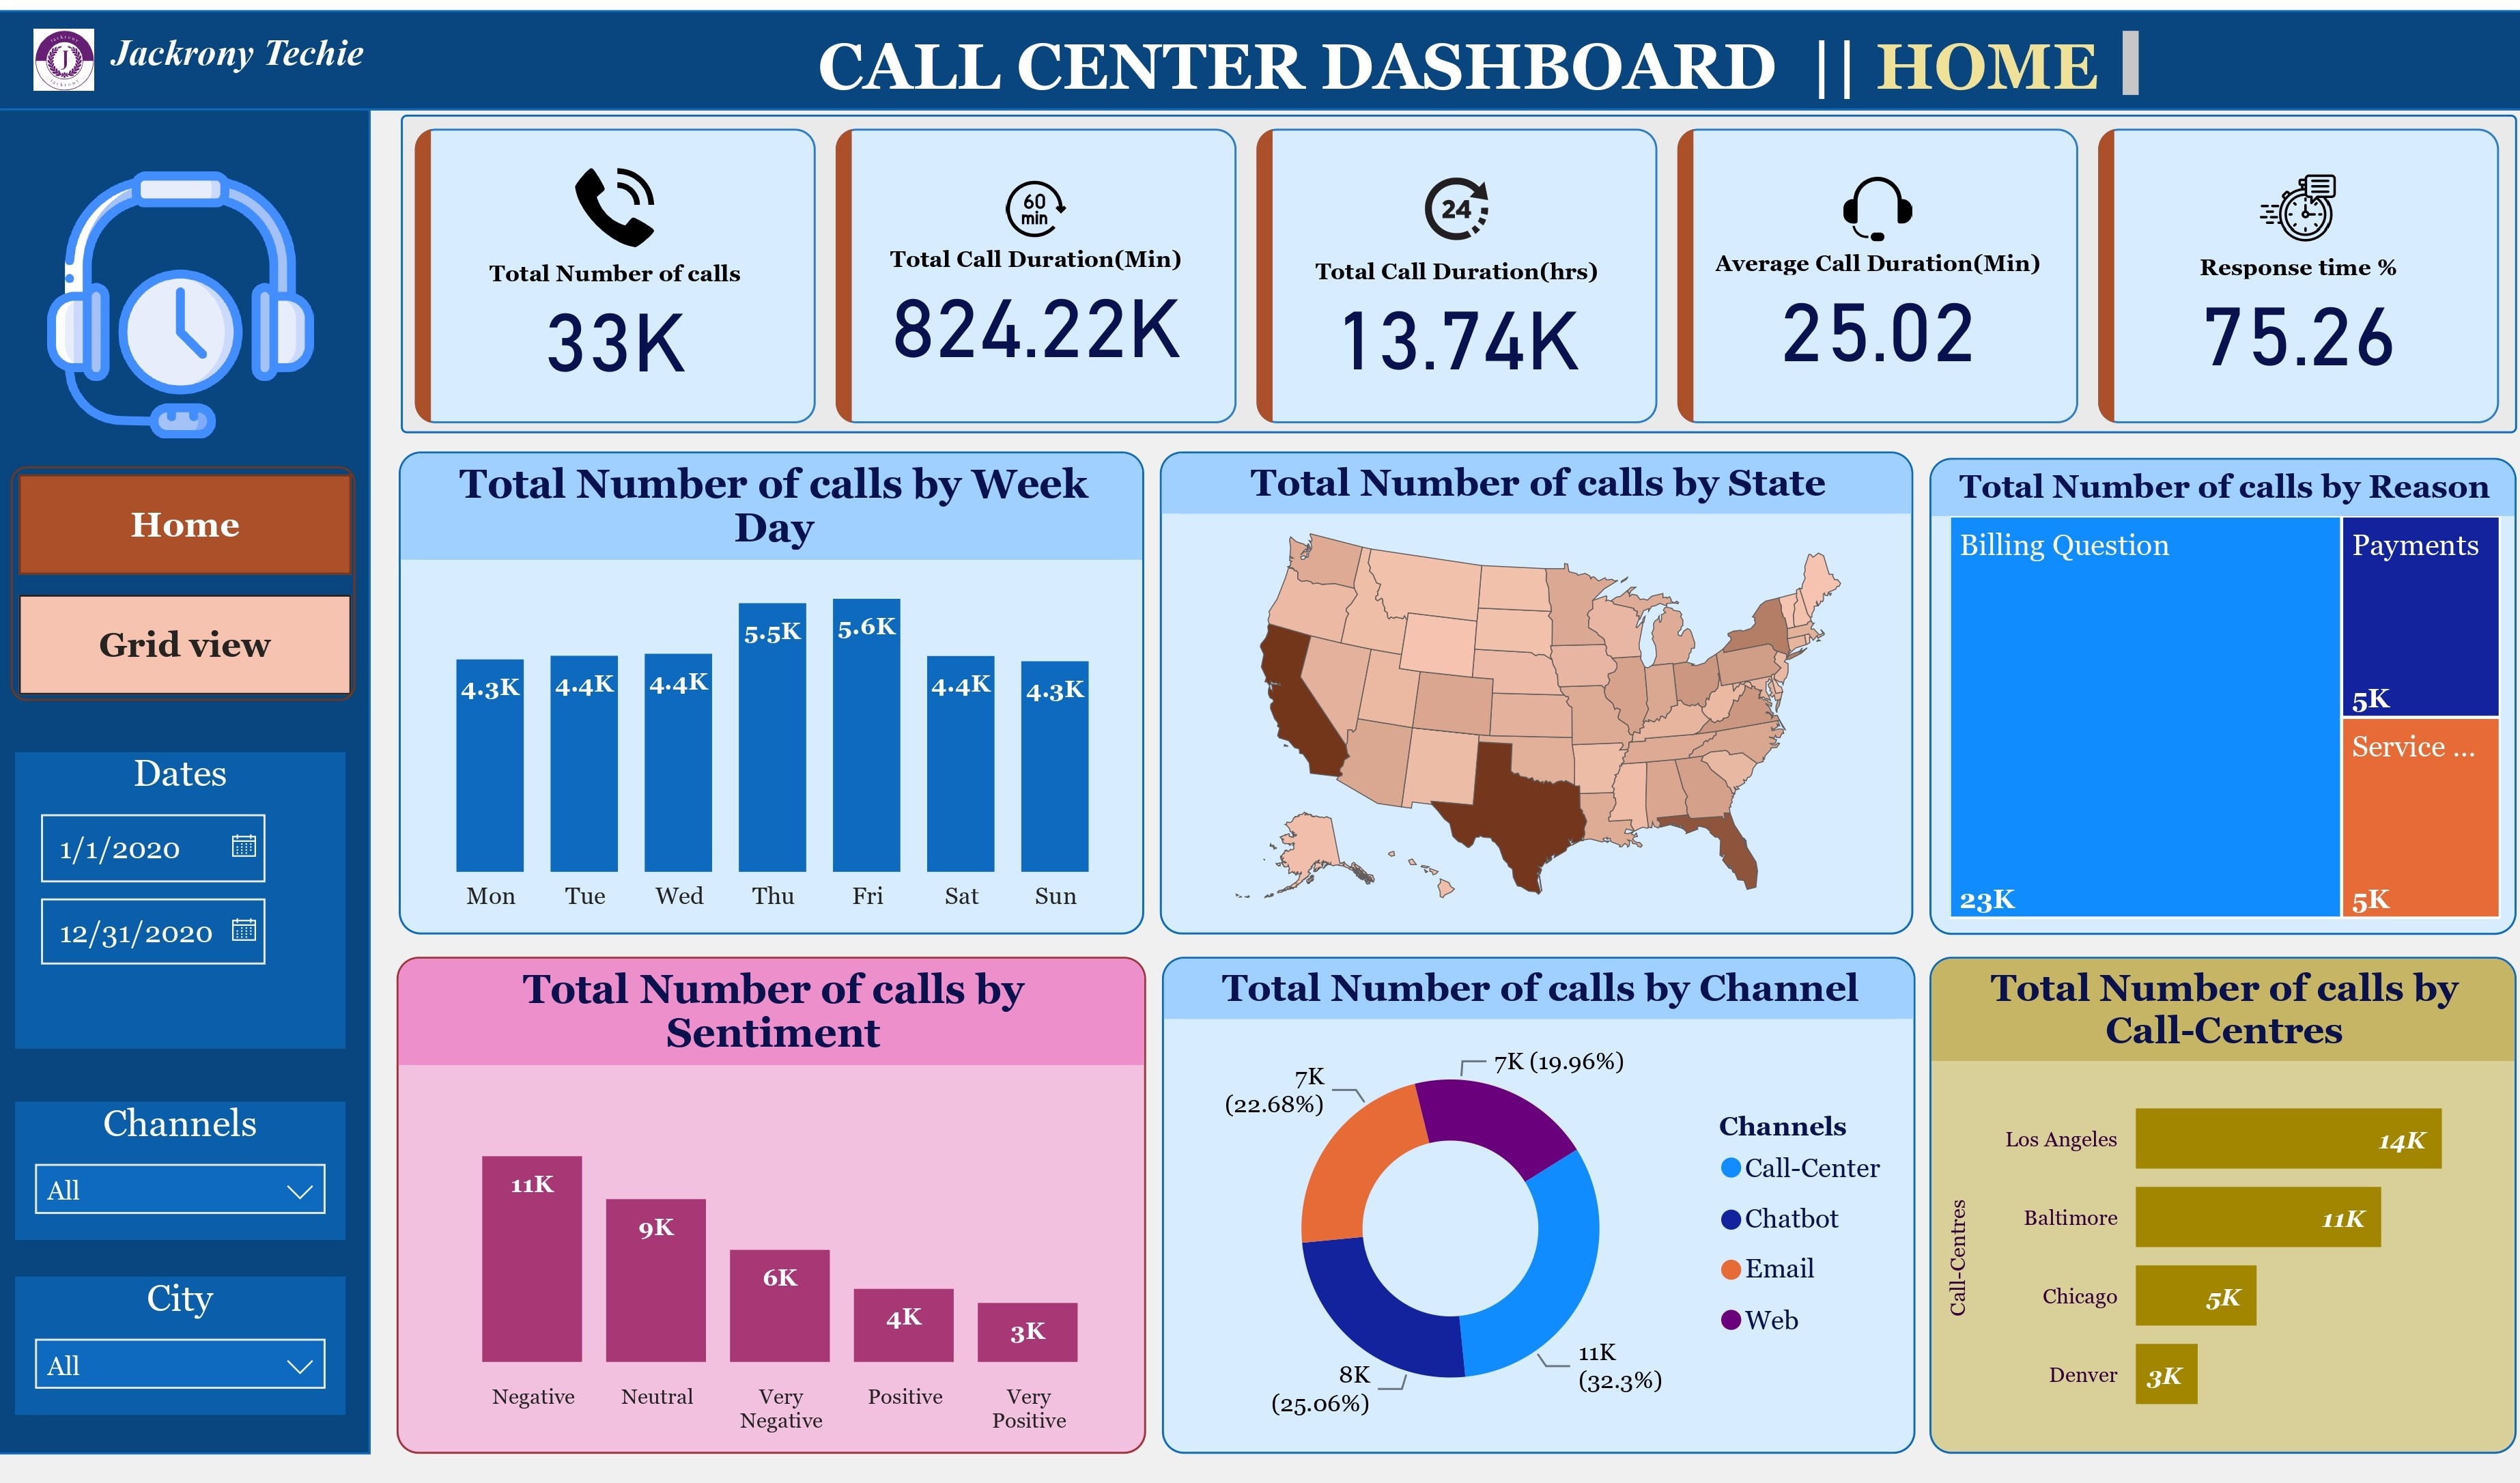

This screenshot's page, from the dashboard's own definition file:
{"tool":"powerbi","page":{"name":"Home","canvas":[1280,720],"ordinal":0},"visuals":[{"type":"columnChart","title":"Total Number of calls by Week Day","fields":{"Y":["Center_Call Data.Total Number of calls"],"Category":["Dates.WeekDayName"]},"box":[209,220,372.2,240.7],"z":0,"group":"g1"},{"type":"shape","box":[7.4,44.4,187,675.9],"z":0},{"type":"shape","box":[7.4,0,1268.5,50],"z":1000},{"type":"shapeMap","fields":{"Category":["Center_Call Data.State"],"Value":["Center_Call Data.Total Number of calls"]},"box":[588.6,219.9,375.9,240.7],"z":1000,"group":"g1"},{"type":"treemap","title":"Total Number of calls by Reason","fields":{"Group":["Center_Call Data.Reason"],"Values":["Center_Call Data.Total Number of calls"]},"box":[972.8,223.2,292.8,237.6],"z":2000,"group":"g1"},{"type":"columnChart","title":"Total Number of calls by Sentiment ","fields":{"Y":["Center_Call Data.Total Number of calls"],"Category":["Center_Call Data.Sentiment"]},"box":[207.4,472.2,374.1,248.1],"z":2000},{"type":"cardVisual","fields":{"Data":["Center_Call Data.Total Number of calls","Center_Call Data.Total Call Duration in minutes","Center_Call Data.Total Call Duration in hrs","Center_Call Data.Average CAll Duration (Min)","Center_Call Data.Response time %"]},"box":[209.3,51.9,1055.6,159.3],"z":3000},{"type":"textbox","box":[413.1,5.8,669.1,43.6],"z":4000},{"type":"group","id":"g1","title":"Group 1","box":[209,219.9,1056.6,240.9],"z":5000},{"type":"donutChart","fields":{"Category":["Center_Call Data.Channel"],"Y":["Center_Call Data.Total Number of calls"]},"box":[588.9,472.2,375.9,248.1],"z":6000},{"type":"clusteredBarChart","fields":{"Category":["Center_Call Data.Call-Centres City"],"Y":["Center_Call Data.Total Number of calls"]},"box":[972.2,472.2,292.6,248.1],"z":7000},{"type":"image","box":[7.3,4.4,68.4,40.7],"z":8000},{"type":"image","box":[16.7,75.9,164.8,142.6],"z":9000},{"type":"textbox","box":[59.6,5.8,189.1,39.3],"z":10000},{"type":"slicer","title":"Channels ","fields":{"Values":["Center_Call Data.Channel"]},"box":[16.7,544.4,164.8,68.5],"z":11000},{"type":"slicer","title":"City","fields":{"Values":["Center_Call Data.City"]},"box":[16.7,631.5,164.8,68.5],"z":12000},{"type":"slicer","title":"Dates","fields":{"Values":["Dates.Date"]},"box":[16.7,370.4,164.8,148.1],"z":13000},{"type":"pageNavigator","box":[14.8,227.8,172.2,116.7],"z":14000}]}

Visuals, with their boxes on the page's 1280x720 design canvas (x1, y1, x2, y2). These are canvas units, not pixel positions in the 2520x1483 screenshot, which may show the page scaled, cropped or inside an application window:
"Total Number of calls by Week Day" columnChart: (209,220,581,461)
shape: (7,44,194,720)
shape: (7,0,1276,50)
shapeMap - Center_Call Data.State x Center_Call Data.Total Number of calls: (589,220,964,461)
"Total Number of calls by Reason" treemap: (973,223,1266,461)
"Total Number of calls by Sentiment " columnChart: (207,472,582,720)
cardVisual - Center_Call Data.Total Number of calls x Center_Call Data.Total Call Duration in minutes: (209,52,1265,211)
textbox: (413,6,1082,49)
"Group 1" group: (209,220,1266,461)
donutChart - Center_Call Data.Channel x Center_Call Data.Total Number of calls: (589,472,965,720)
clusteredBarChart - Center_Call Data.Call-Centres City x Center_Call Data.Total Number of calls: (972,472,1265,720)
image: (7,4,76,45)
image: (17,76,182,218)
textbox: (60,6,249,45)
"Channels " slicer: (17,544,182,613)
"City" slicer: (17,632,182,700)
"Dates" slicer: (17,370,182,518)
pageNavigator: (15,228,187,344)
